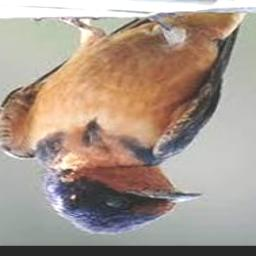Swallow: (0, 12, 245, 237)
